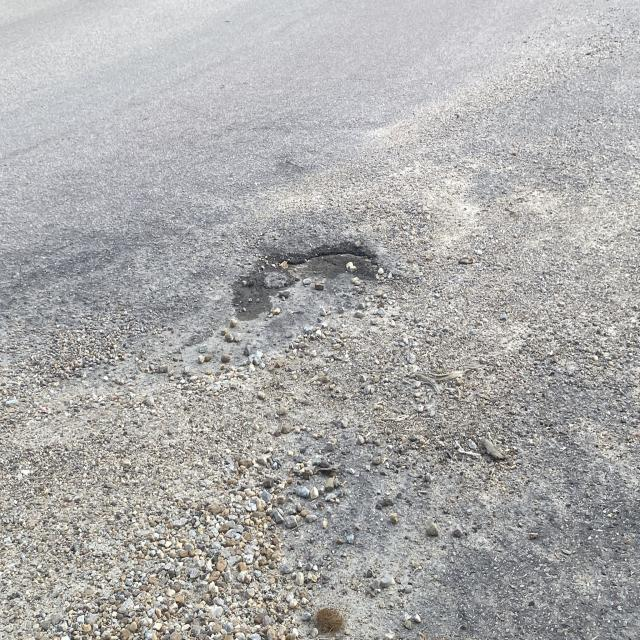Pothole: (216, 225, 411, 343)
